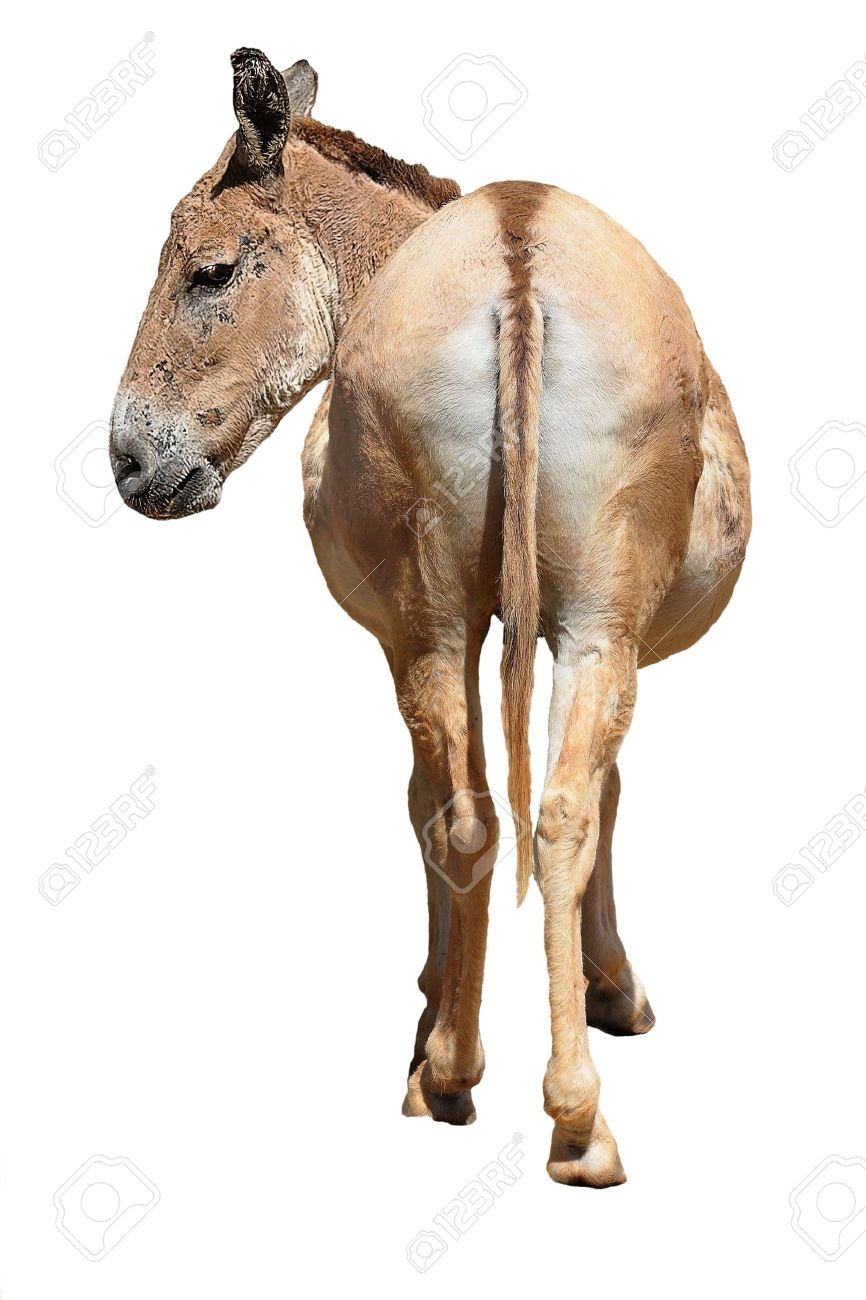donkey: (110, 55, 757, 1188)
